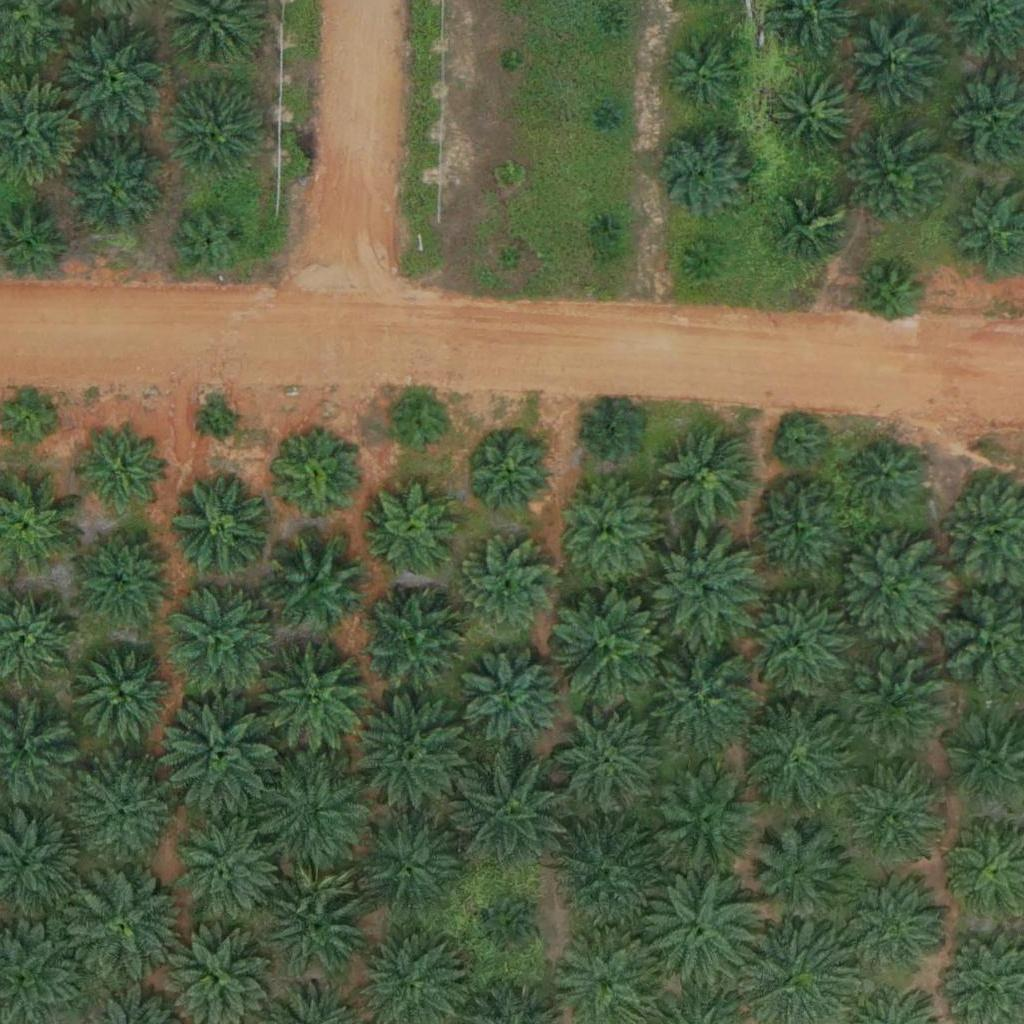Kelapa_Sawit: (155, 695, 280, 821), (248, 752, 373, 878), (344, 694, 469, 820), (449, 753, 574, 879), (550, 584, 675, 710), (546, 813, 671, 939), (633, 633, 758, 759), (643, 864, 768, 990), (738, 695, 863, 821), (58, 865, 183, 990), (734, 587, 859, 712), (258, 643, 371, 757), (358, 584, 471, 698), (58, 21, 171, 134), (350, 811, 463, 924), (647, 533, 760, 646), (648, 765, 761, 878), (743, 821, 856, 934), (842, 875, 955, 988), (647, 118, 759, 231), (164, 578, 276, 691), (167, 814, 279, 927), (257, 863, 369, 976), (458, 645, 570, 758), (549, 702, 661, 815), (836, 536, 948, 649), (837, 648, 949, 761), (848, 127, 948, 228), (65, 139, 165, 240), (71, 528, 171, 629), (73, 644, 173, 745), (70, 760, 170, 861), (454, 538, 554, 639), (558, 479, 658, 580), (658, 427, 758, 528), (747, 481, 847, 582), (168, 81, 268, 181), (171, 473, 271, 573), (266, 531, 366, 631), (665, 29, 753, 118), (771, 73, 859, 161), (76, 428, 164, 516), (369, 483, 457, 571), (468, 432, 556, 520), (849, 771, 937, 859), (851, 25, 938, 113), (275, 437, 362, 525), (174, 203, 249, 279), (778, 191, 853, 266), (850, 440, 925, 515), (857, 264, 920, 327), (479, 899, 542, 962), (580, 402, 643, 465), (390, 395, 452, 458), (775, 419, 825, 469), (687, 240, 725, 278), (202, 403, 239, 441), (597, 16, 622, 41), (499, 51, 524, 76), (495, 163, 520, 188), (498, 247, 523, 272), (598, 105, 623, 130), (591, 215, 616, 240)
